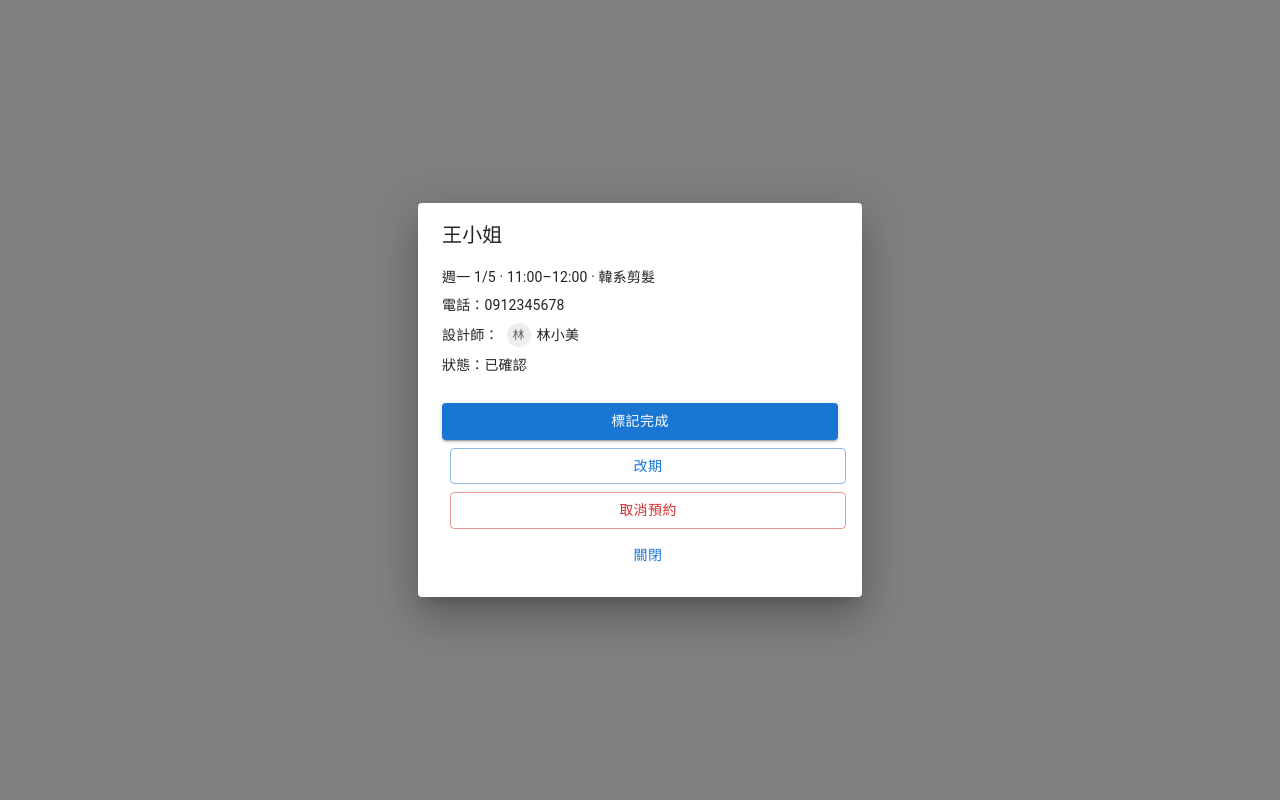
Test: AppointmentDetailDialog 設計師 › 沒有請假：照常列出可選時段（對照組）
The width and height of the screenshot is (1280, 800).
Click the button "改期": coordinates (648, 466) [450,448,846,484]
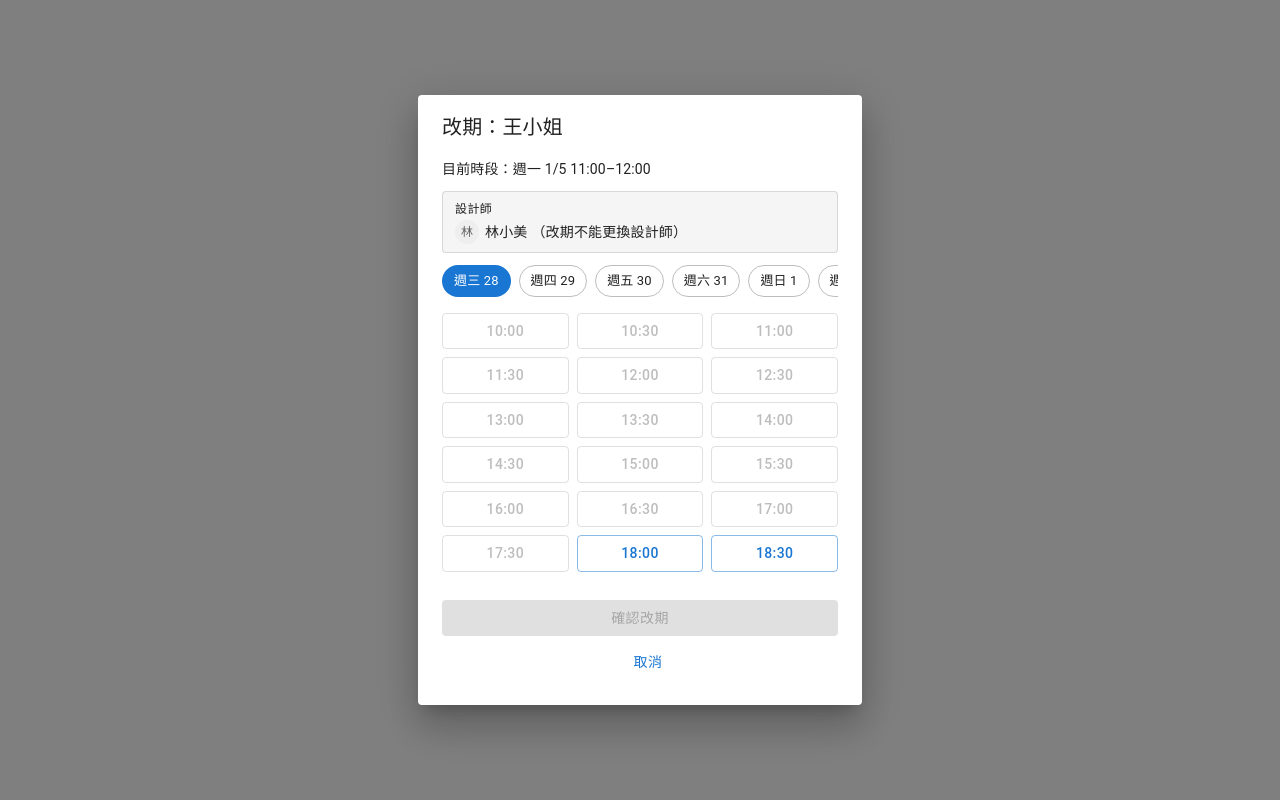
Click the button "週四 29": coordinates (553, 281) [519,265,587,297]
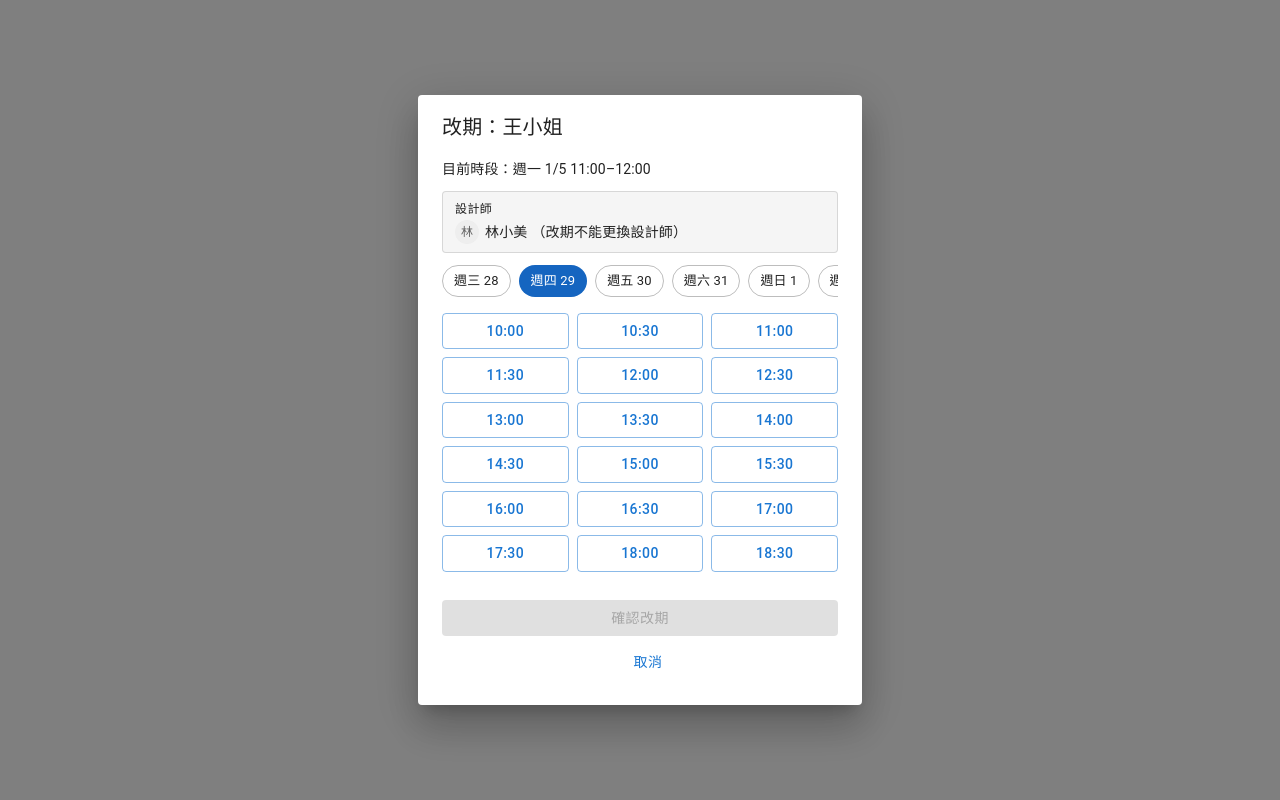
Check: the button "10:00" is enabled, box [442,313,569,350]
